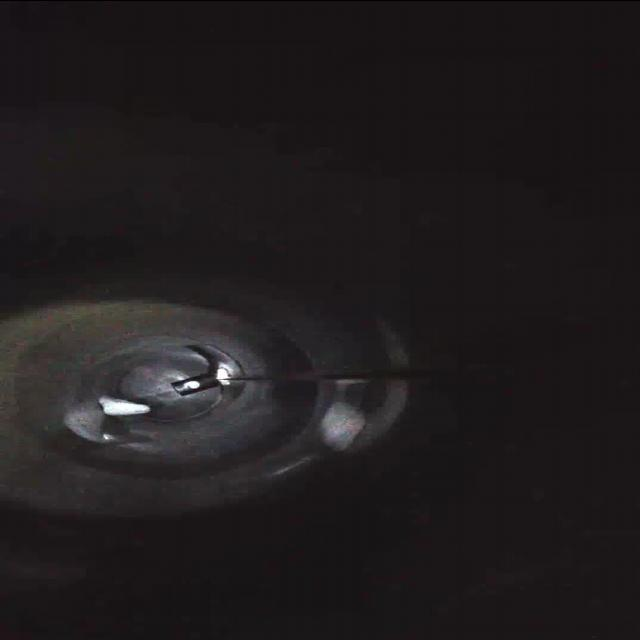impurity: (88, 388, 154, 420)
